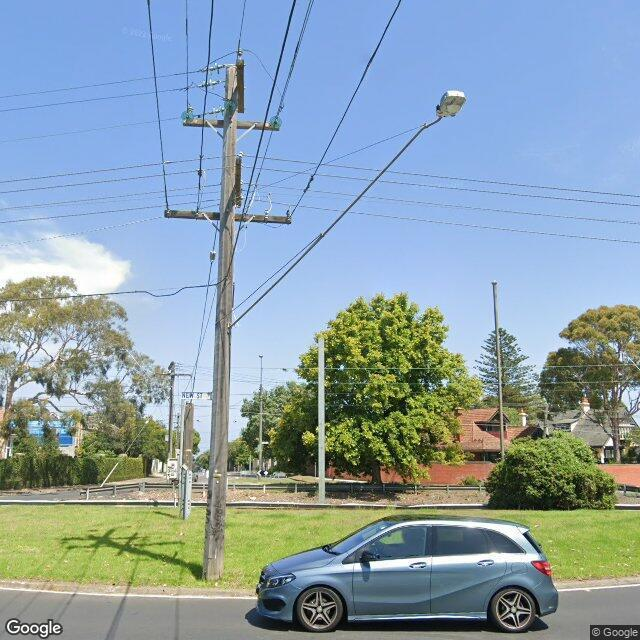HV-transmission: (180, 48, 282, 131)
concrete-pole: (318, 337, 325, 500)
crossarm: (164, 169, 314, 225), (184, 118, 272, 130), (237, 58, 246, 114), (236, 156, 242, 208), (154, 373, 193, 378)
streetlight: (229, 89, 467, 330)
timber-pole: (200, 65, 239, 583), (490, 281, 504, 461), (168, 361, 176, 457), (258, 353, 264, 470)
